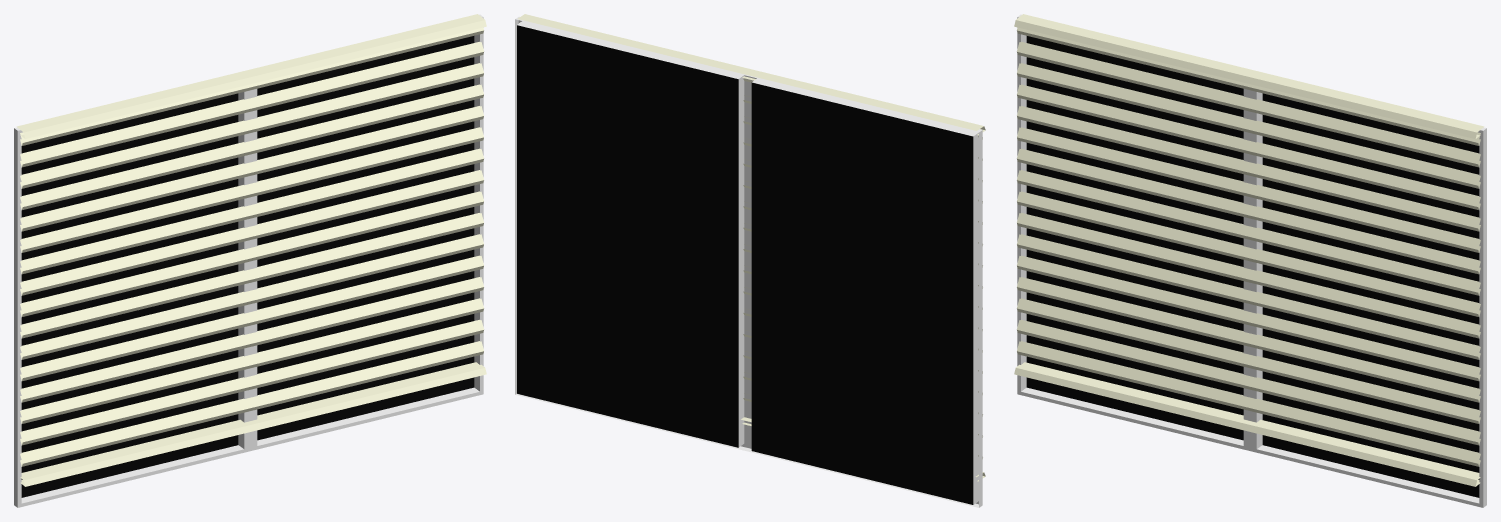
File: Window.fbx
The picture shows the model from 3 angles, left to right: view 1: azimuth 30°, elevation 25°; view 2: azimuth 150°, elevation 25°; view 3: azimuth 330°, elevation 25°; orthographic projection.
Parts seen in each view (by area): view 1: Box007; view 2: Box007; view 3: Box007.
Part boxes in pixels (left/top/right/bottom): Box007: left=14, top=14, right=486, bottom=507; Box007: left=515, top=14, right=985, bottom=507; Box007: left=1014, top=14, right=1486, bottom=507.
Size of the model in its own units: 449 by 348 by 18.44.
